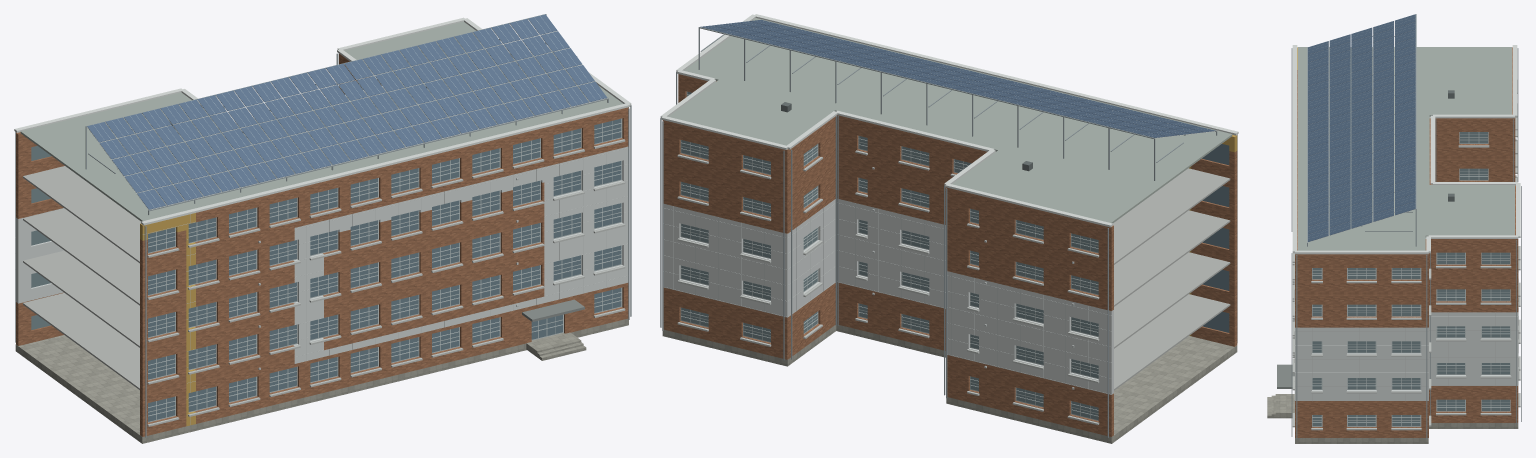
3 renders of one model, left to right at view 1: azimuth 30°, elevation 25°; view 2: azimuth 150°, elevation 25°; view 3: azimuth 270°, elevation 25°, orthographic. The views are drawn at different scales.
Parts seen in each view (by area): view 1: main-east__brick, main-east__pv, main-east__glass, main-east__panel, main-east__slab, main-east__roof, main-east__frame, main-east__cap, main-east__stone, main-east__sill, main-east__steel, main-east__pvline (+5 smaller); view 2: main-east__brick, main-east__roof, main-east__panel, main-east__slab, main-east__sideglass, main-east__pv, main-east__stone, main-east__steel, main-east__cap, main-east__frame, main-east__sill, main-east__joint (+1 smaller); view 3: main-east__brick, main-east__pv, main-east__roof, main-east__panel, main-east__sideglass, main-east__cap, main-east__frame, main-east__sill, main-east__steel, main-east__stone, main-east__joint, main-east__entrance (+2 smaller).
Part boxes in pixels (x1,y1,x2,y2): main-east__brick: (16,54,628,436); main-east__pv: (87,14,607,209); main-east__glass: (148,118,621,421); main-east__panel: (16,146,628,363); main-east__slab: (23,166,140,389); main-east__roof: (20,21,623,221); main-east__frame: (148,82,622,422); main-east__cap: (14,17,631,225); main-east__stone: (15,318,628,443); main-east__sill: (147,139,625,426); main-east__steel: (15,14,631,437); main-east__pvline: (94,16,601,206); main-east__brick: (662,74,1237,436); main-east__roof: (668,18,1232,223); main-east__panel: (663,199,1113,394); main-east__slab: (1113,168,1230,390); main-east__sideglass: (681,92,1098,420); main-east__pv: (700,19,1215,137); main-east__stone: (662,324,1237,443); main-east__steel: (660,27,1237,437); main-east__cap: (660,14,1238,227); main-east__frame: (680,91,1098,420); main-east__sill: (677,150,1099,425); main-east__joint: (664,167,1111,394); main-east__brick: (1295,47,1518,437); main-east__pv: (1308,14,1415,241); main-east__roof: (1298,47,1514,250); main-east__panel: (1295,312,1518,400); main-east__sideglass: (1312,132,1509,425); main-east__cap: (1292,21,1520,254); main-east__frame: (1312,132,1510,426); main-east__sill: (1292,80,1520,430); main-east__steel: (1291,14,1521,439); main-east__stone: (1295,423,1518,443); main-east__joint: (1293,138,1518,400); main-east__entrance: (1277,364,1294,388).
Bounding box in the file's own units: 46.72 × 24.05 × 24.14.
Materials: 17 (2 with a texture image).
